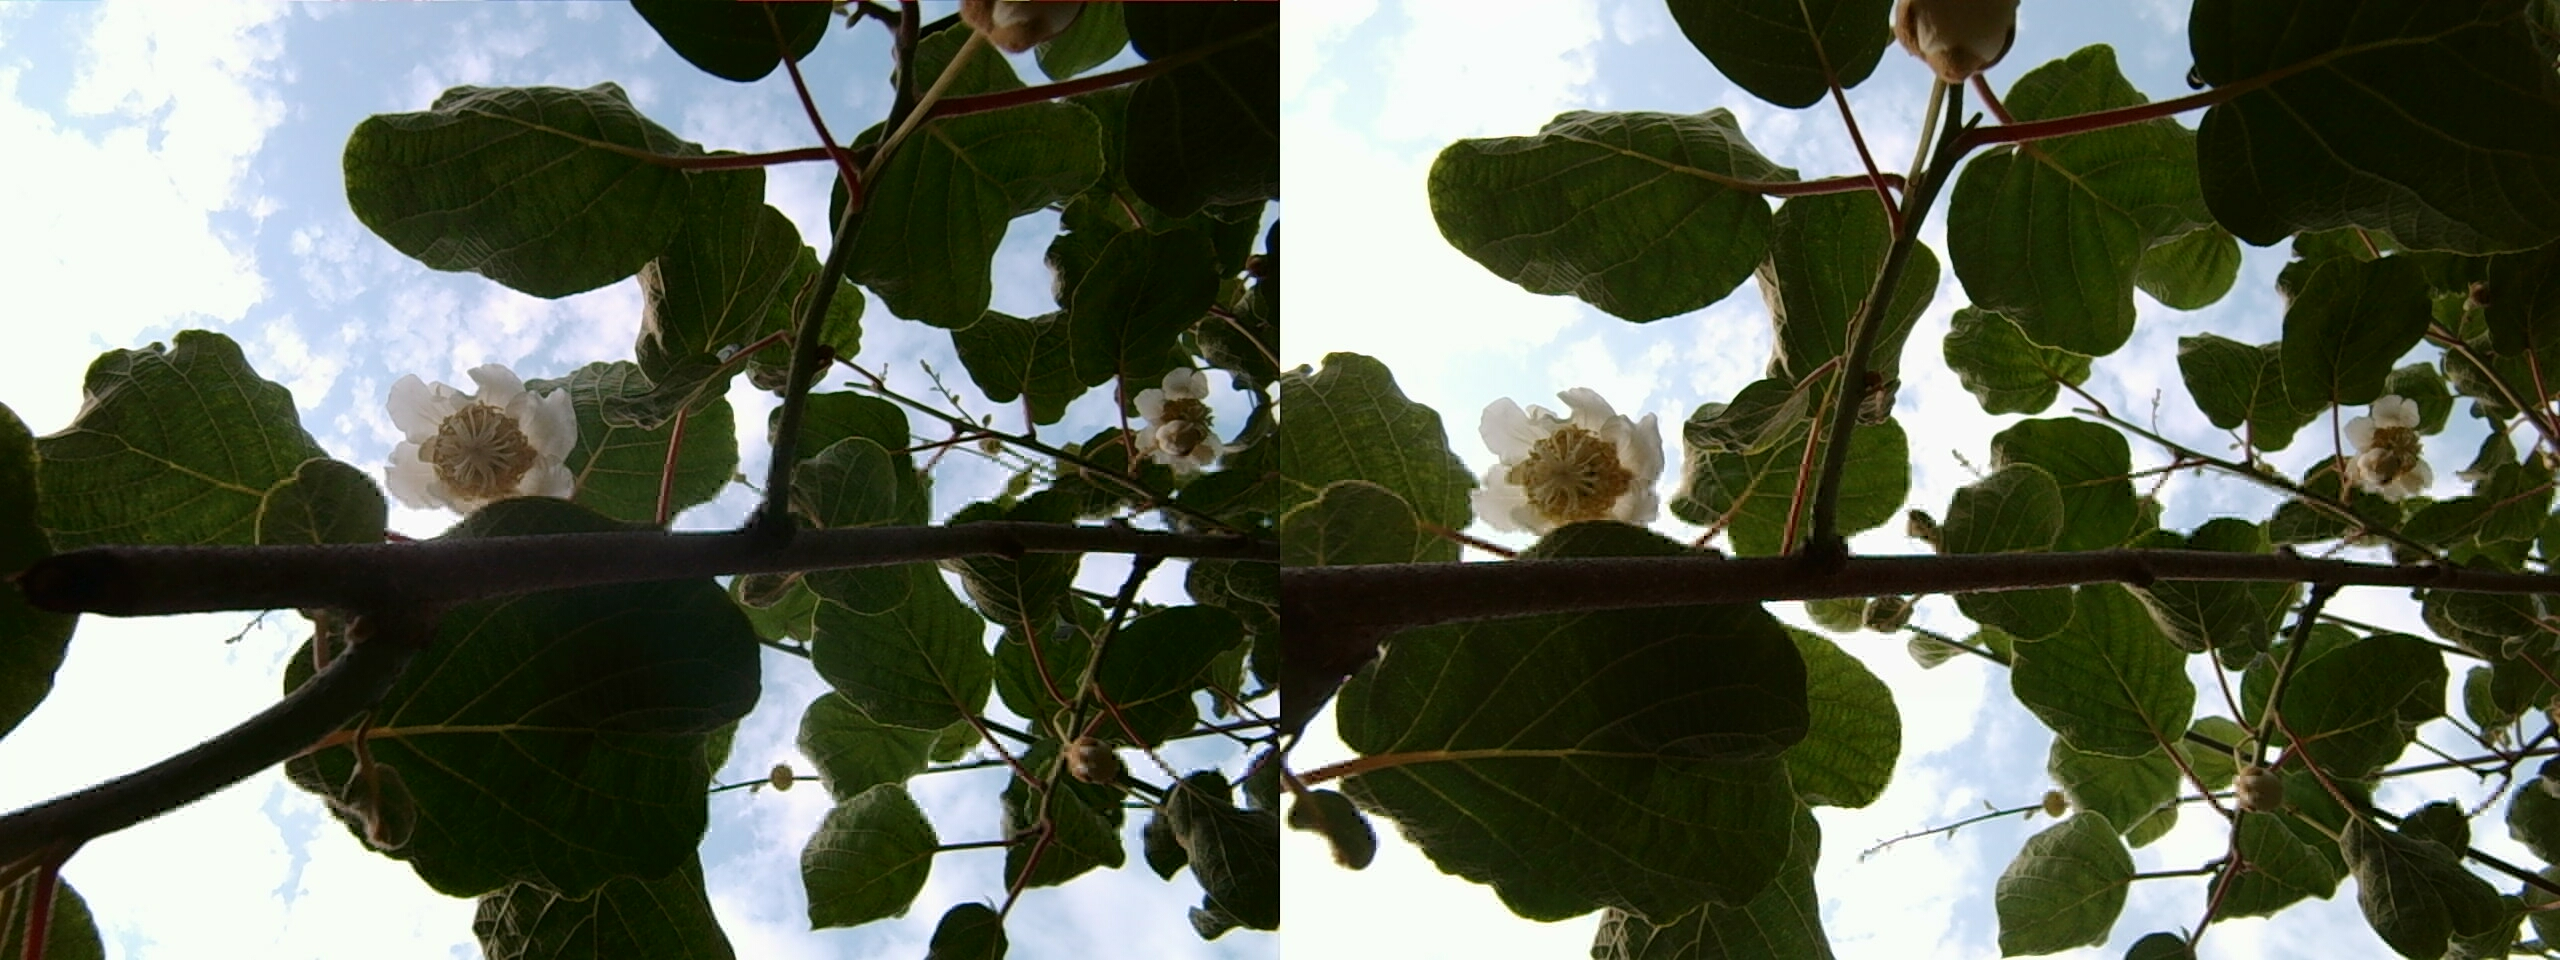flower: (376, 343, 576, 516), (1468, 380, 1675, 540)
